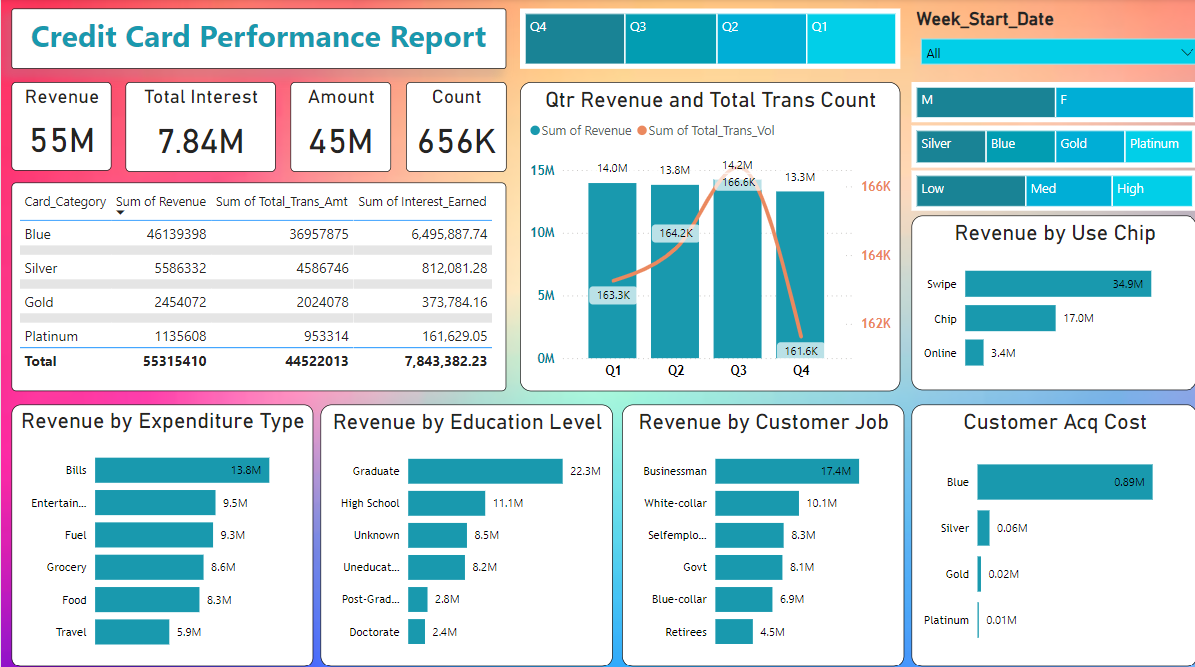

This screenshot's page, from the dashboard's own definition file:
{"tool":"powerbi","page":{"name":"Dashboard 1","canvas":[1280,720],"ordinal":0},"visuals":[{"type":"textbox","box":[11.5,11.5,524.6,63.9],"z":0},{"type":"lineStackedColumnComboChart","title":"Qtr Revenue and Total Trans Count","fields":{"Y":["Sum(cc_detail.Revenue)"],"Category":["cc_detail.qtr1"],"Y2":["Sum(cc_detail.Total_Trans_Vol)"]},"box":[550.8,88.5,403.3,327.9],"z":1000},{"type":"barChart","title":"Revenue by Expenditure Type","fields":{"Y":["Sum(cc_detail.Revenue)"],"Category":["cc_detail.Exp_Type"]},"box":[11.1,431.1,319.7,278.4],"z":2000},{"type":"barChart","title":"Revenue by Education Level","fields":{"Y":["Sum(cc_detail.Revenue)"],"Category":["cust_details.Education_Level"]},"box":[339.3,431.1,310.2,278.4],"z":3000},{"type":"barChart","title":"Revenue by Customer Job","fields":{"Y":["Sum(cc_detail.Revenue)"],"Category":["cust_details.Customer_Job"]},"box":[658,431.1,299,278.4],"z":4000},{"type":"barChart","title":"Customer Acq Cost","fields":{"Category":["cc_detail.Card_Category"],"Y":["Sum(cc_detail.Customer_Acq_Cost)"]},"box":[965.5,431.1,303.8,278.4],"z":5000},{"type":"barChart","title":"Revenue by Use Chip","fields":{"Y":["Sum(cc_detail.Revenue)"],"Category":["cc_detail.Use_Chip"]},"box":[965.6,231.1,303.3,185.2],"z":6000},{"type":"tableEx","fields":{"Values":["cc_detail.Card_Category","Sum(cc_detail.Revenue)","Sum(cc_detail.Total_Trans_Amt)","Sum(cc_detail.Interest_Earned)"]},"box":[11.5,195.1,524.6,221.3],"z":7000},{"type":"card","title":"Revenue","fields":{"Values":["Sum(cc_detail.Revenue)"]},"box":[11.1,89.1,106,93.8],"z":8000},{"type":"card","title":"Total Interest","fields":{"Values":["Sum(cc_detail.Interest_Earned)"]},"box":[132.7,89.1,159.1,95.4],"z":9000},{"type":"card","title":"Amount","fields":{"Values":["Sum(cc_detail.Total_Trans_Amt)"]},"box":[307.3,89.1,106.6,95.4],"z":10000},{"type":"card","title":"Count","fields":{"Values":["Sum(cc_detail.Total_Trans_Vol)"]},"box":[429.5,89.1,106.6,95.4],"z":11000},{"type":"treemap","fields":{"Group":["cc_detail.qtr1"],"Values":["Avg(cc_detail.Client_Num)"]},"box":[550.8,11.5,403.3,63.9],"z":12000},{"type":"treemap","fields":{"Values":["Max(cc_detail.Client_Num)"],"Group":["cust_details.Gender"]},"box":[965.6,88.5,304.9,42.6],"z":13000},{"type":"treemap","fields":{"Values":["Avg(cc_detail.Client_Num)"],"Group":["cc_detail.Card_Category"]},"box":[965.5,135.2,303.8,44.5],"z":14000},{"type":"treemap","fields":{"Values":["Sum(cc_detail.Client_Num)"],"Group":["cust_details.IncomeGroup"]},"box":[965.5,182.9,303.8,42.9],"z":15000},{"type":"slicer","title":"Week_Start_Date","fields":{"Values":["cc_detail.Week_Start_Date"]},"box":[965.5,11.1,314.9,63.6],"z":16000}]}

Visuals, with their boxes in screenshot pixels (x1, y1, x2, y2), scaled from the page's 1280x720 canvas onto the 1195x667 screenshot:
textbox: detection(11, 11, 500, 70)
"Qtr Revenue and Total Trans Count" lineStackedColumnComboChart: detection(514, 82, 891, 386)
"Revenue by Expenditure Type" barChart: detection(10, 399, 309, 657)
"Revenue by Education Level" barChart: detection(317, 399, 606, 657)
"Revenue by Customer Job" barChart: detection(614, 399, 893, 657)
"Customer Acq Cost" barChart: detection(901, 399, 1185, 657)
"Revenue by Use Chip" barChart: detection(901, 214, 1185, 386)
tableEx - cc_detail.Card_Category x Sum(cc_detail.Revenue): detection(11, 181, 500, 386)
"Revenue" card: detection(10, 83, 109, 169)
"Total Interest" card: detection(124, 83, 272, 171)
"Amount" card: detection(287, 83, 386, 171)
"Count" card: detection(401, 83, 500, 171)
treemap - cc_detail.qtr1 x Avg(cc_detail.Client_Num): detection(514, 11, 891, 70)
treemap - Max(cc_detail.Client_Num) x cust_details.Gender: detection(901, 82, 1186, 121)
treemap - Avg(cc_detail.Client_Num) x cc_detail.Card_Category: detection(901, 125, 1185, 166)
treemap - Sum(cc_detail.Client_Num) x cust_details.IncomeGroup: detection(901, 169, 1185, 209)
"Week_Start_Date" slicer: detection(901, 10, 1194, 69)
